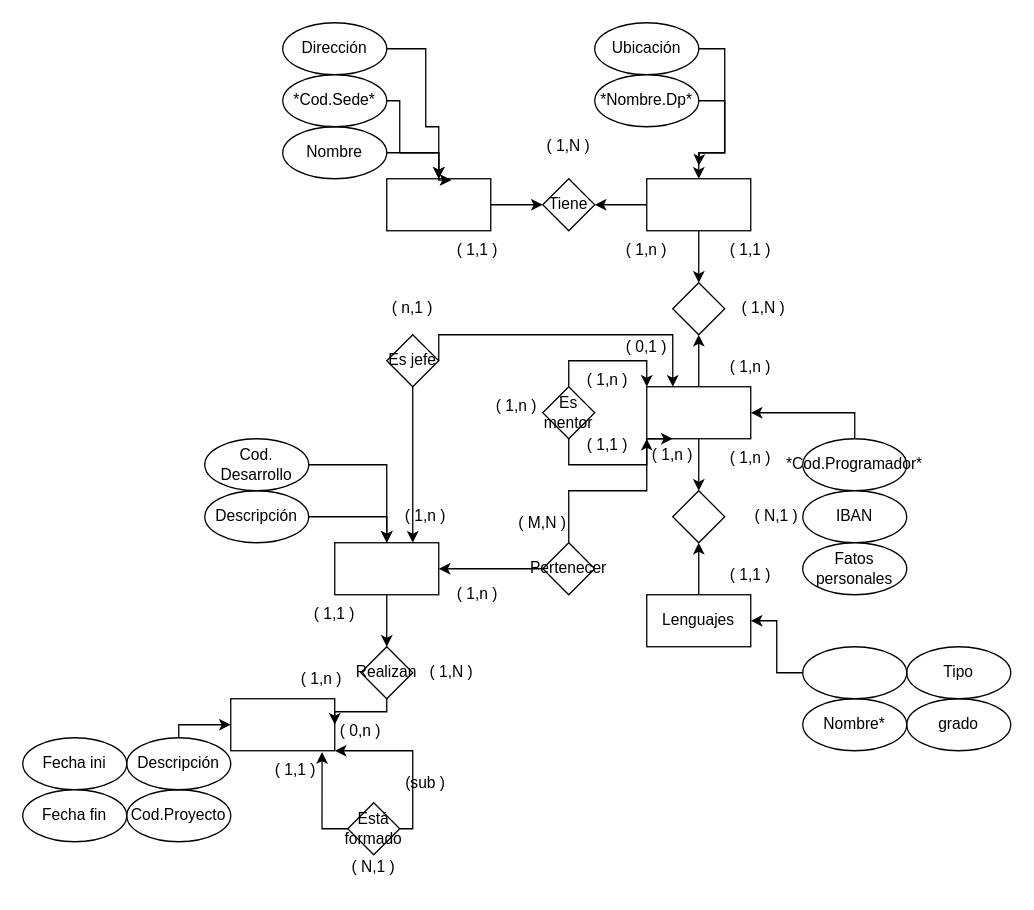
Image size: 1034x910. Some labels were removed from this diagram. The shapes that lost their labels are listed below. From the top down, each one's box as (x1, y1, x2, y2) in pixels, then its label:
(385, 177, 491, 231): Sede
(645, 177, 751, 231): Departamentos
(645, 385, 751, 439): Programadores
(671, 489, 725, 543): Especialista
(333, 541, 439, 595): Equipo de desarrollo
(801, 645, 907, 699): Año
(229, 697, 335, 751): Proyectos
